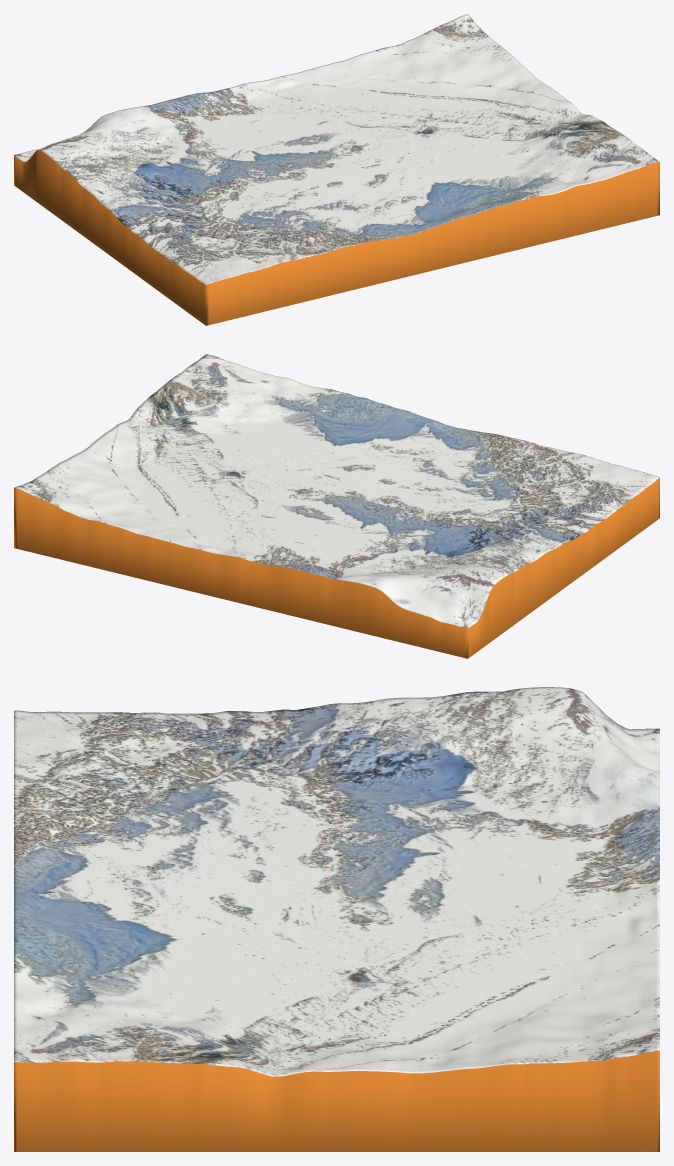
File: del rodeo.fbx
3 views of the same model, one above another, from view 1: azimuth 30°, elevation 25°; view 2: azimuth 150°, elevation 25°; view 3: azimuth 270°, elevation 25° (orthographic). The views are drawn at different scales.
Visible parts, largest first — view 1: EXPORT_GOOGLE_SAT_WM; view 2: EXPORT_GOOGLE_SAT_WM; view 3: EXPORT_GOOGLE_SAT_WM.
Boxes of the visible parts, x1,y1,x2,y2 form: EXPORT_GOOGLE_SAT_WM: [14, 14, 659, 325]; EXPORT_GOOGLE_SAT_WM: [14, 354, 659, 658]; EXPORT_GOOGLE_SAT_WM: [14, 687, 659, 1151].
Bounding box in the file's own units: 250331 × 31928 × 183449.
